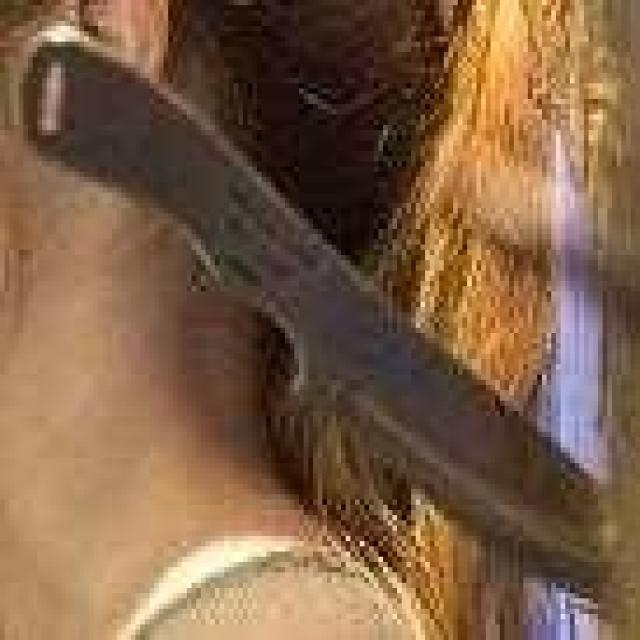knife: (25, 28, 626, 606)
